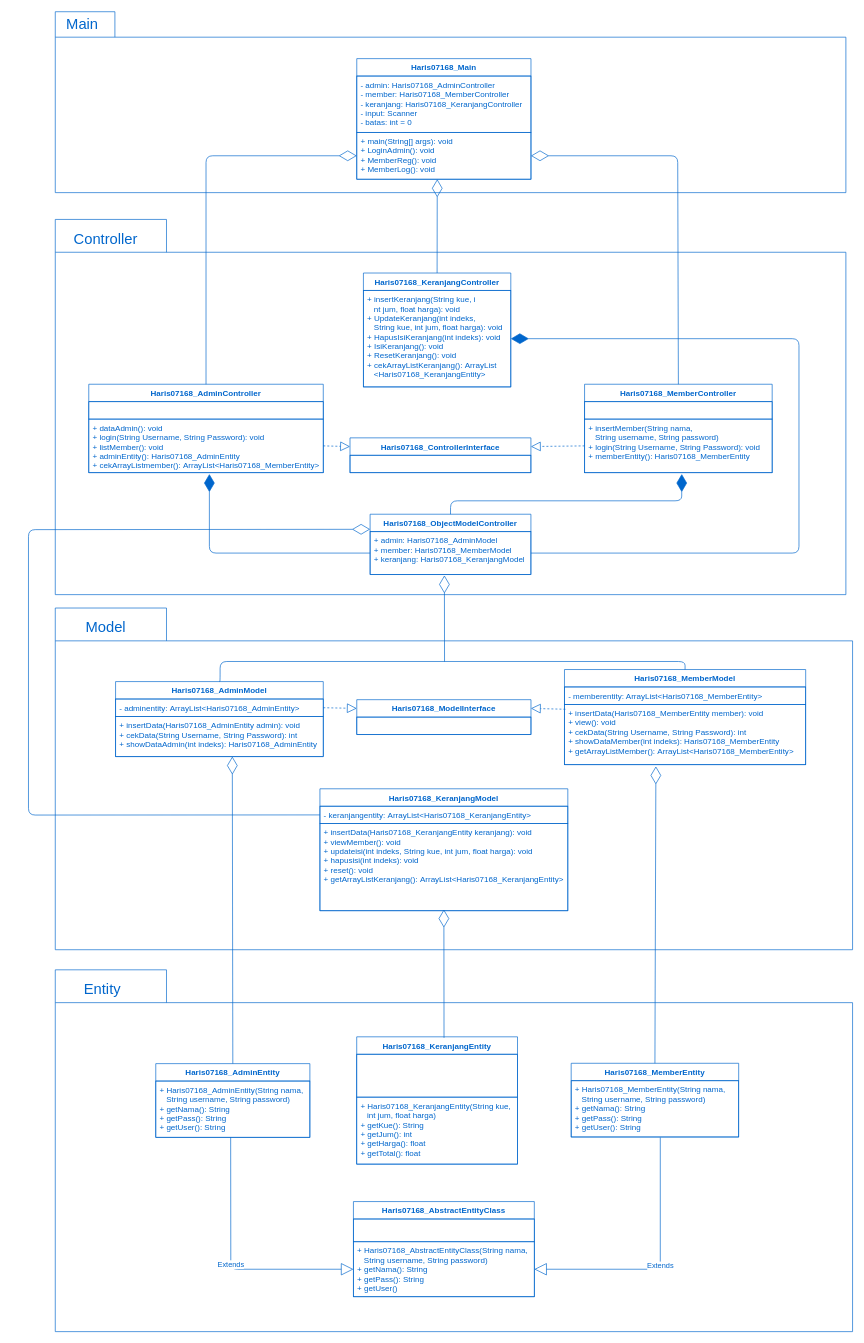
Image size: 864x1343. Some labels were removed from this diagram. The centre of each missing label's shape, as x and y in pixels:
+ cekData(String Username, String Password): int: the point at 443,725
+ login(String Username, String Password): void: the point at 440,464
- indeks: int: the point at 205,410
- indeks: int = 0: the point at 678,410
- Kue: String - Jum: int - Harga, Total: float: the point at 437,1075
- Nama, Username, Password: String: the point at 443,1230
